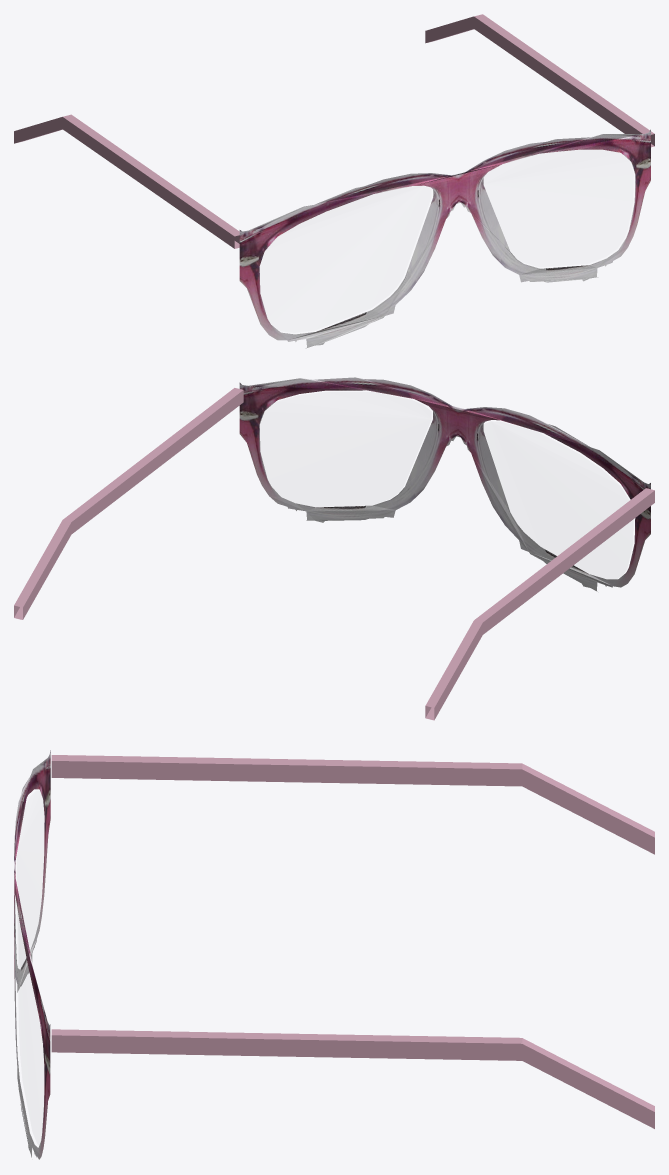
The model's file is gothamstyle-30_pink.glb.
The picture shows the model from 3 angles, top to bottom: view 1: azimuth 30°, elevation 25°; view 2: azimuth 150°, elevation 25°; view 3: azimuth 270°, elevation 25°; orthographic projection. The views are drawn at different scales.
Visible parts, largest first — view 1: frame_front, temple_viewer_left, temple_viewer_right; view 2: frame_front, temple_viewer_left, temple_viewer_right; view 3: temple_viewer_right, temple_viewer_left, frame_front.
Part boxes in pixels (x1,y1,x2,y2): frame_front: [239, 129, 650, 348]; temple_viewer_left: [14, 114, 239, 248]; temple_viewer_right: [425, 14, 654, 147]; frame_front: [239, 377, 650, 591]; temple_viewer_left: [425, 488, 654, 720]; temple_viewer_right: [14, 388, 243, 619]; temple_viewer_right: [51, 1029, 654, 1128]; temple_viewer_left: [51, 755, 654, 854]; frame_front: [14, 750, 50, 1159].
Bounding box in the file's own units: 0.1408 × 0.0497 × 0.136.
3 materials, 2 textured.
